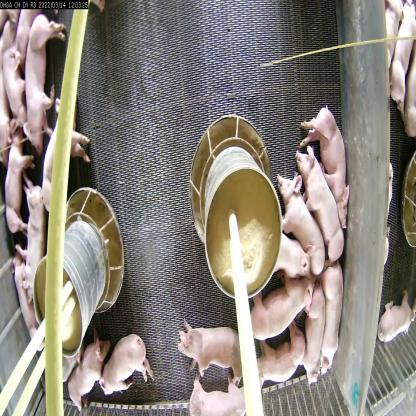Pig: (301, 105, 354, 237), (294, 136, 345, 266), (22, 17, 66, 147), (41, 108, 91, 220), (276, 169, 326, 274), (102, 325, 155, 399), (181, 320, 245, 381), (0, 139, 39, 239), (244, 278, 310, 335), (254, 324, 306, 390), (16, 174, 45, 292), (65, 338, 119, 400), (324, 262, 350, 380), (1, 37, 30, 140), (264, 222, 312, 278), (294, 278, 322, 370), (186, 382, 240, 416)
